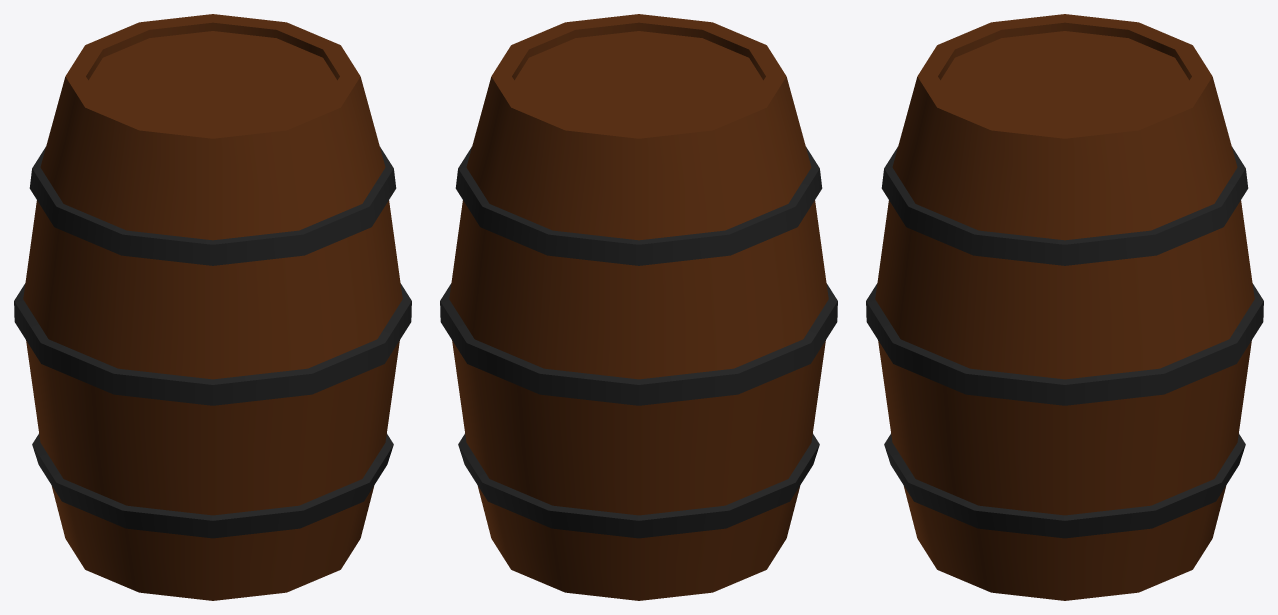
Rendered from Barrel.fbx.
The picture shows the model from 3 angles, left to right: view 1: azimuth 30°, elevation 25°; view 2: azimuth 150°, elevation 25°; view 3: azimuth 270°, elevation 25°; orthographic projection.
Visible parts, largest first — view 1: Barrel; view 2: Barrel; view 3: Barrel.
Part boxes in pixels (box(x1,y1,x2,y2)): Barrel: box(14, 14, 411, 600); Barrel: box(440, 14, 837, 600); Barrel: box(866, 14, 1263, 600).
Size of the model in its own units: 1.49 by 1.9 by 1.49.
